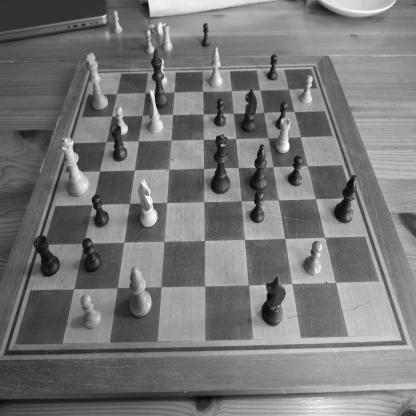black-bishop: (334, 174, 357, 224), (250, 144, 268, 191)
black-king: (151, 48, 168, 109)
black-knight: (261, 276, 286, 326), (241, 88, 257, 132)
black-pawn: (82, 237, 102, 273), (92, 194, 110, 228), (250, 190, 265, 224), (288, 155, 303, 187), (214, 98, 226, 127), (276, 101, 288, 130), (267, 54, 278, 80), (201, 22, 211, 48)
black-queen: (211, 134, 230, 194)
black-rook: (33, 235, 60, 278), (110, 124, 128, 162)
white-bishop: (129, 266, 152, 318), (209, 47, 223, 88)
white-king: (86, 52, 109, 111)
white-knight: (138, 178, 158, 228), (148, 88, 163, 134)
white-pawn: (80, 294, 102, 329), (303, 240, 323, 276), (115, 106, 129, 136), (300, 75, 314, 104), (112, 10, 123, 34), (145, 29, 155, 54), (148, 22, 164, 36), (160, 58, 168, 86)
white-queen: (58, 136, 90, 197)
white-rook: (275, 117, 291, 154), (162, 23, 173, 52)
